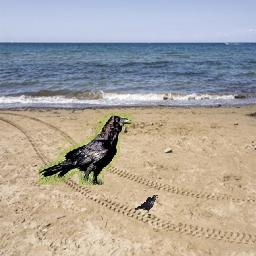Crow: (39, 113, 133, 185), (134, 194, 158, 218)
